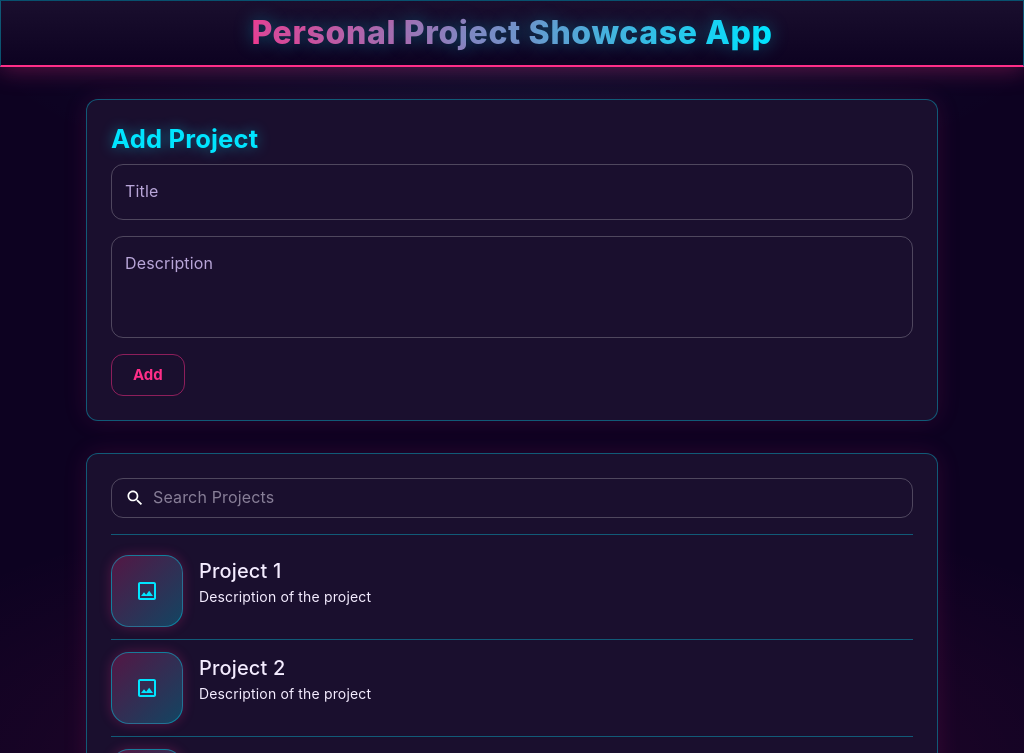
Test case: App integration › shows an empty state when the search matches nothing
Type "nonexistent" into the field labelled "Search Projects". click: [533, 498]
box: x1=153 y1=478 x2=913 y2=518
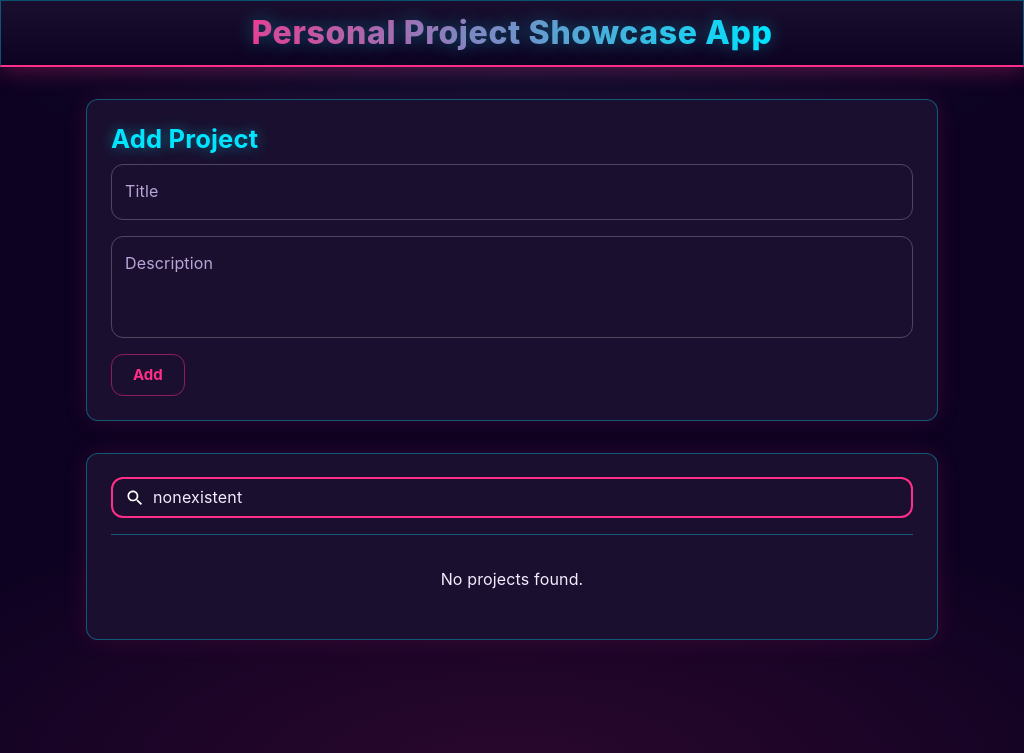
Expected: the text "No projects found." is shown, x1=441 y1=569 x2=583 y2=589
